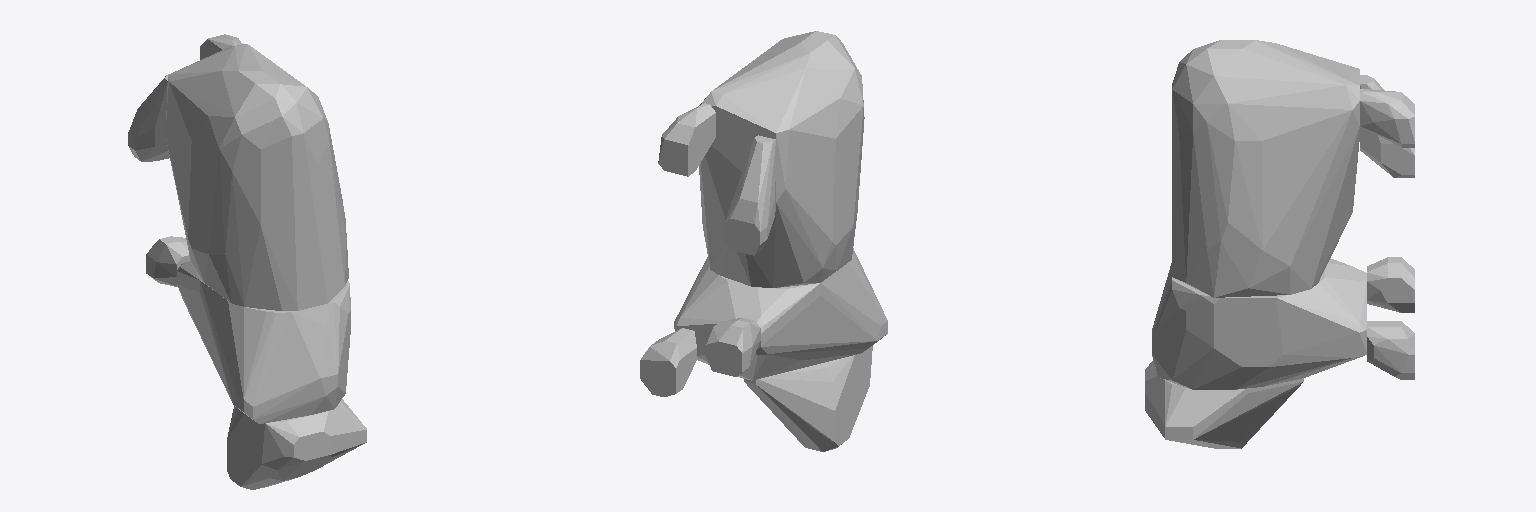
The model's file is Schleich_Hereford_Bull_collision.obj.
3 views of the same model, side by side, from view 1: azimuth 30°, elevation 25°; view 2: azimuth 150°, elevation 25°; view 3: azimuth 270°, elevation 25° (orthographic).
Parts seen in each view (by area): view 1: convex_1, convex_2, convex_0, convex_3, convex_5, convex_4; view 2: convex_1, convex_2, convex_0, convex_3, convex_4, convex_6, convex_5; view 3: convex_1, convex_2, convex_0, convex_4, convex_6, convex_5, convex_3.
Boxes of the visible parts, <box> form: convex_1: <box>165,44,348,310</box>; convex_2: <box>177,261,350,423</box>; convex_0: <box>227,399,366,489</box>; convex_3: <box>128,74,169,161</box>; convex_5: <box>146,236,190,286</box>; convex_4: <box>200,34,241,59</box>; convex_1: <box>699,31,864,287</box>; convex_2: <box>674,248,887,380</box>; convex_0: <box>744,346,872,451</box>; convex_3: <box>724,135,775,255</box>; convex_4: <box>658,103,715,176</box>; convex_6: <box>640,328,696,396</box>; convex_5: <box>706,317,760,376</box>; convex_1: <box>1172,40,1359,297</box>; convex_2: <box>1152,258,1366,389</box>; convex_0: <box>1145,360,1303,448</box>; convex_4: <box>1360,89,1414,147</box>; convex_6: <box>1367,321,1414,379</box>; convex_5: <box>1367,257,1414,312</box>; convex_3: <box>1360,75,1414,177</box>.
Bounding box in the file's own units: 0.0516 × 0.15 × 0.0914.